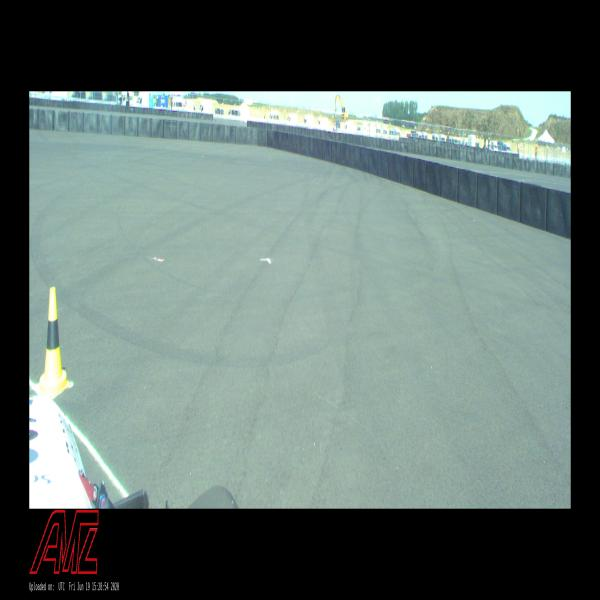yellow_cone: (37, 286, 69, 397)
